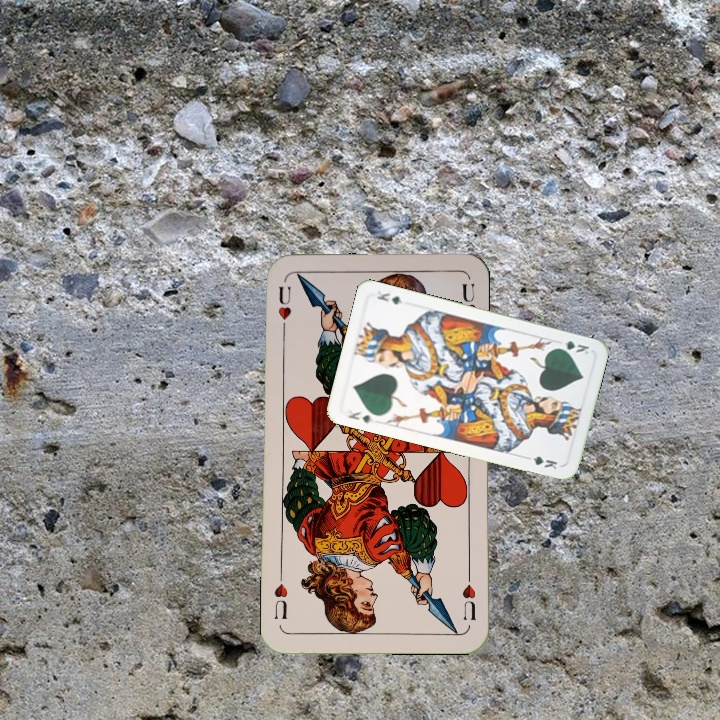GK: (552, 337, 592, 357), (344, 406, 376, 426)
HU: (274, 282, 294, 337), (458, 569, 478, 623)
